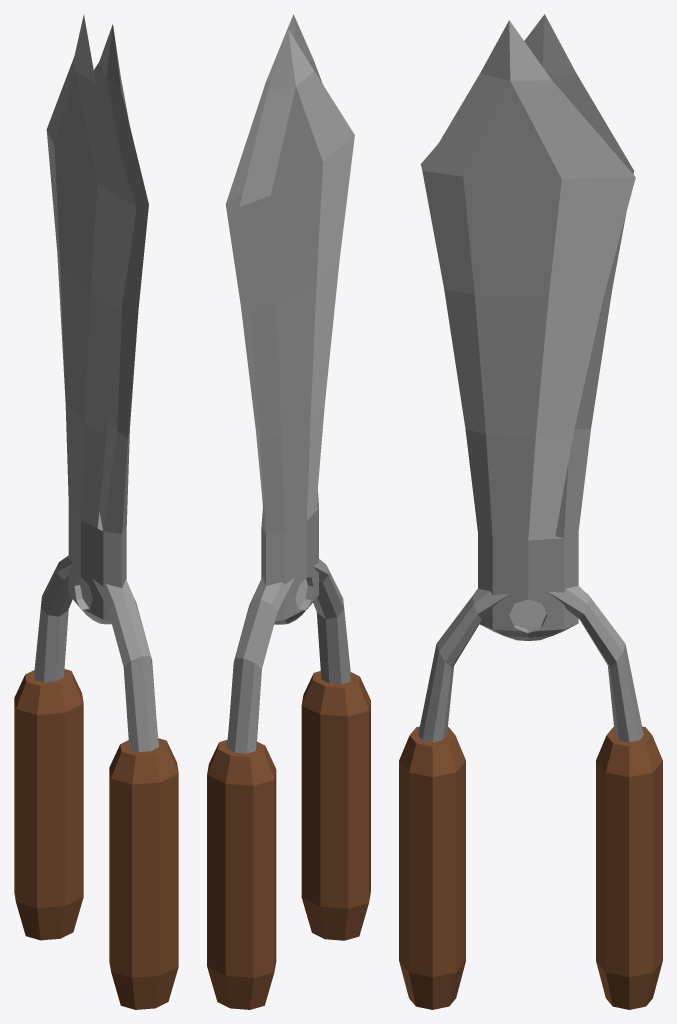
File: shears01.gltf
3 views of the same model, side by side, from view 1: azimuth 30°, elevation 25°; view 2: azimuth 150°, elevation 25°; view 3: azimuth 270°, elevation 25° (orthographic). The views are drawn at different scales.
Visible parts, largest first — view 1: Cylinder.001; view 2: Cylinder.001; view 3: Cylinder.001.
Boxes of the visible parts, <box> form: Cylinder.001: <box>14,14,178,1009</box>; Cylinder.001: <box>207,14,370,1009</box>; Cylinder.001: <box>399,14,662,1009</box>.
Size of the model in its own units: 0.035 by 0.4799 by 0.117.
1 material, 1 textured.
